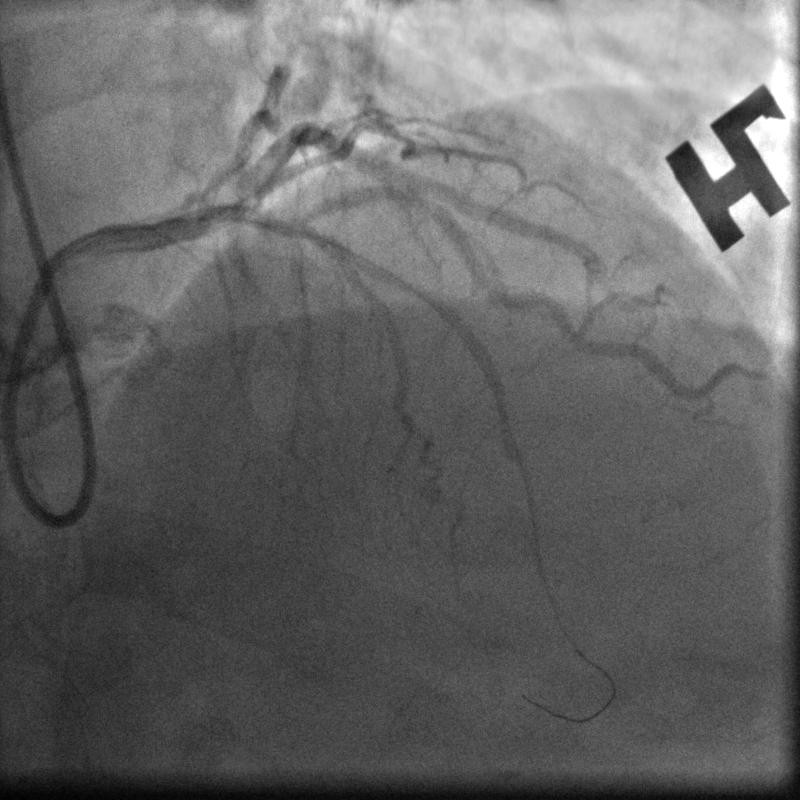Stenosis: (389, 174, 451, 224)
